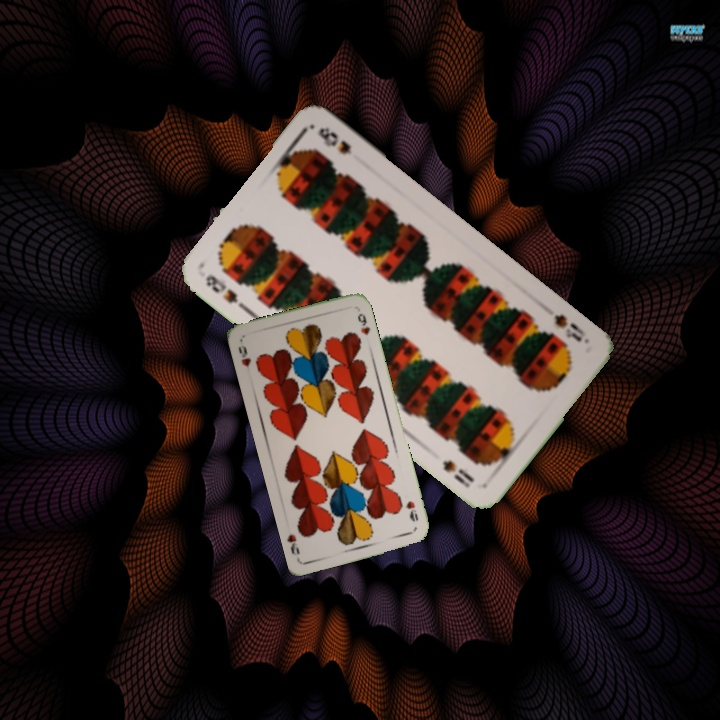H9: (234, 341, 253, 369), (402, 497, 421, 524)
S8: (201, 271, 241, 306), (550, 310, 588, 345)
